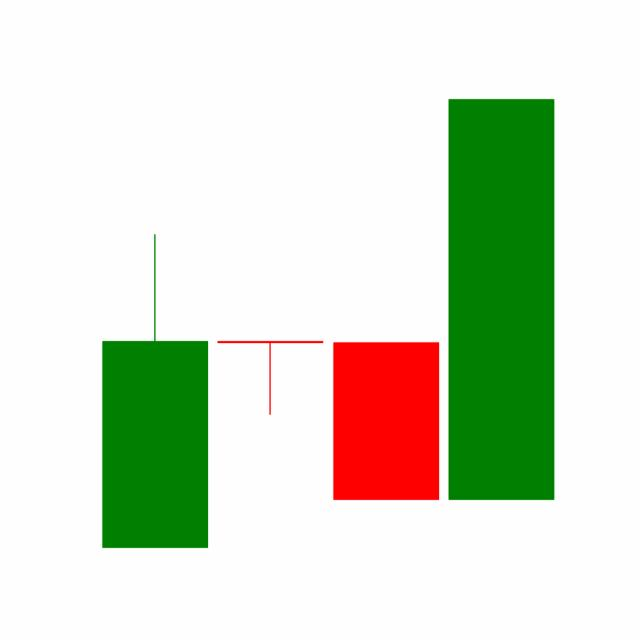Marubozu: (328, 340, 444, 500)
